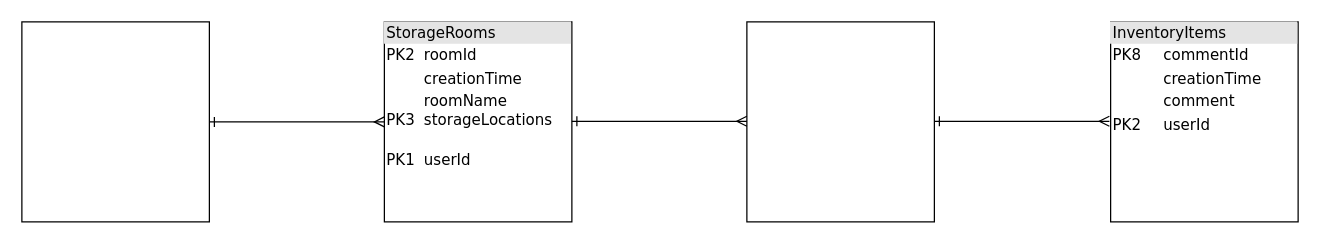
This 1320x244 diagram has some shape labels left out. The shapes that lost their labels are listed below. From the top down, each one's centre as x and y in pixels, then its label:
pixel 115 121: Users PK1 userId email password creationTime
pixel 840 121: StorageLocations PK3 locationId PK2 creationTime locationName roomId
